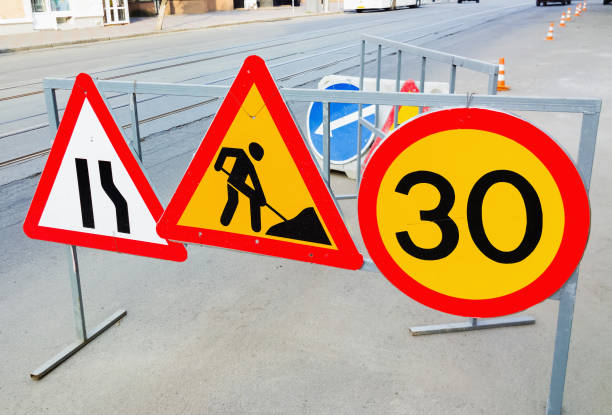yol_calismasi_levha: (159, 51, 365, 275)
